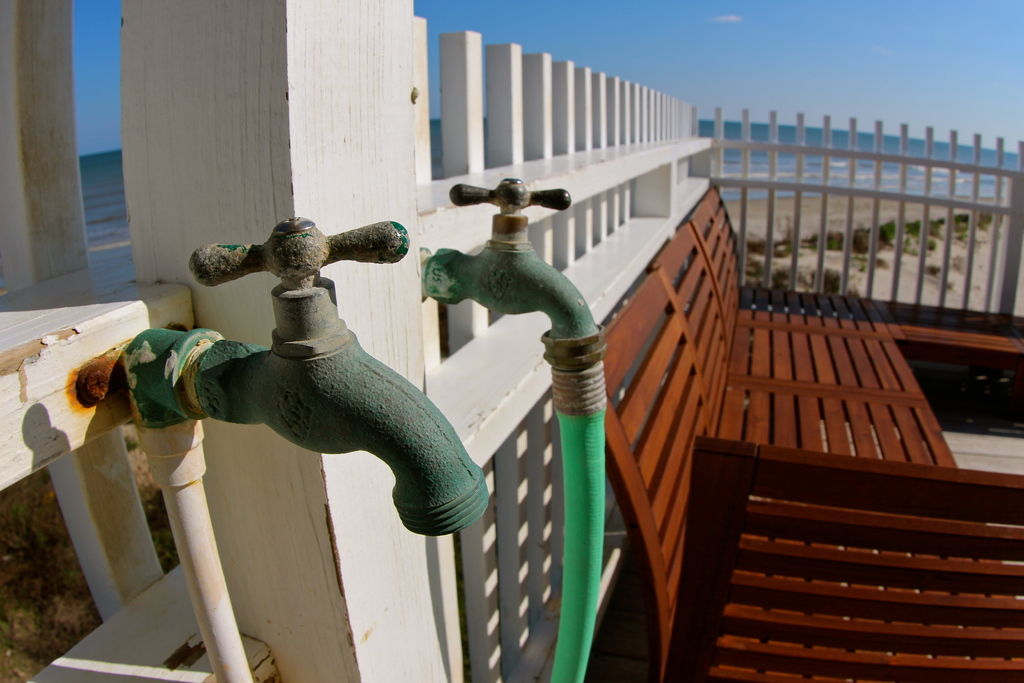tap: (118, 246, 471, 538), (418, 169, 602, 344)
